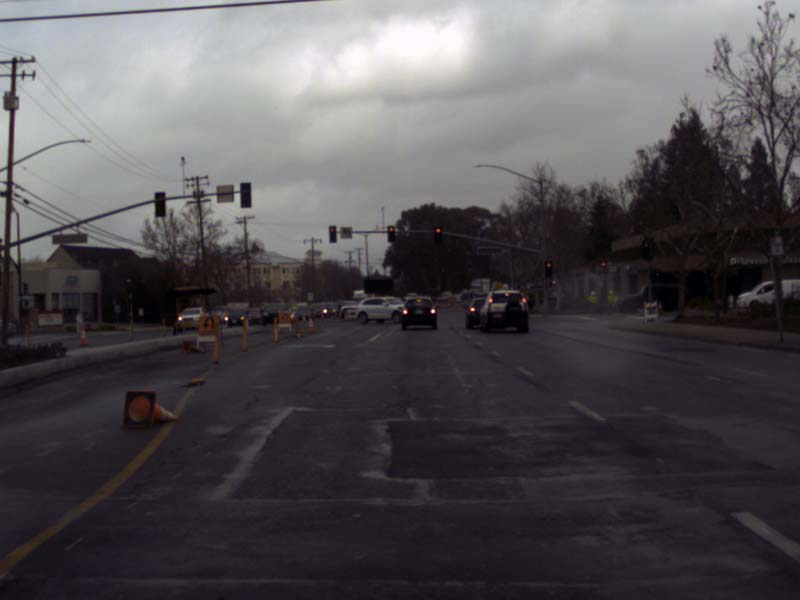Red: (641, 240, 650, 258), (125, 275, 132, 292), (545, 261, 551, 278), (600, 260, 607, 274), (329, 226, 335, 241), (388, 226, 394, 241), (435, 226, 440, 243)
